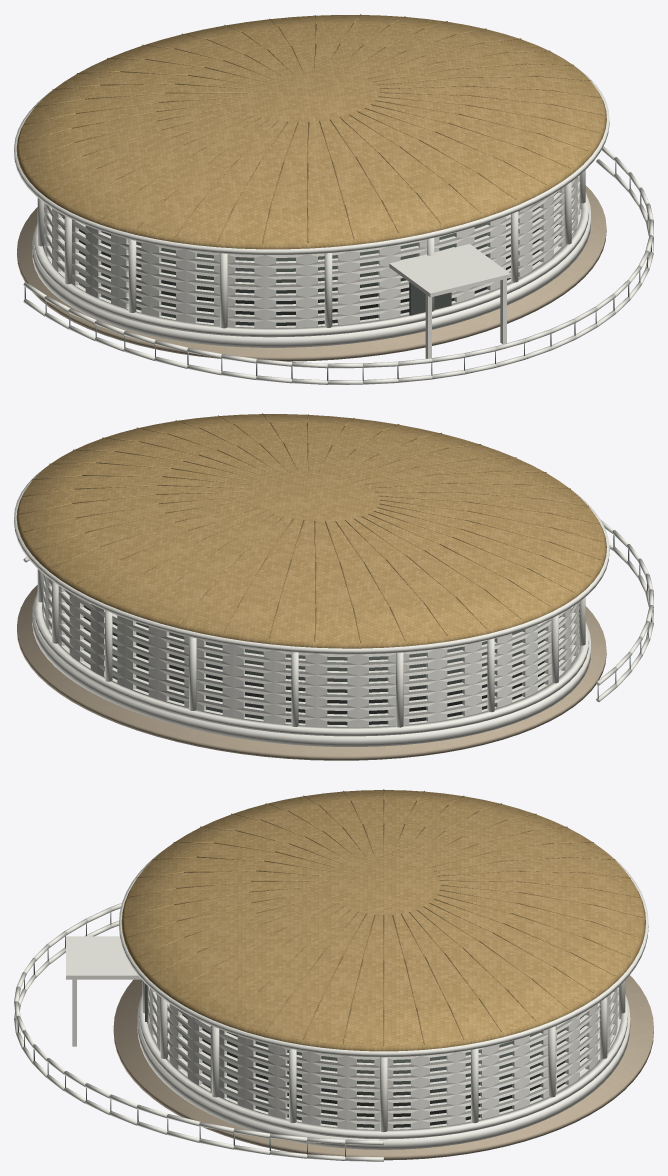
Rendered from long-xuyen-round-annex.glb.
3 views of the same model, one above another, from view 1: azimuth 30°, elevation 25°; view 2: azimuth 150°, elevation 25°; view 3: azimuth 270°, elevation 25° (orthographic).
Visible parts, largest first — view 1: Round_annex_roof, Round_annex_white, Round_annex_paving, Round_annex_dark, Round_annex_metal; view 2: Round_annex_roof, Round_annex_white, Round_annex_paving, Round_annex_dark; view 3: Round_annex_roof, Round_annex_white, Round_annex_paving, Round_annex_dark.
Boxes of the visible parts, box(x1,y1,x2,y2) form: Round_annex_roof: box(16, 14, 606, 249); Round_annex_white: box(14, 68, 653, 384); Round_annex_paving: box(17, 185, 606, 361); Round_annex_dark: box(62, 192, 557, 325); Round_annex_metal: box(24, 162, 651, 381); Round_annex_roof: box(16, 413, 606, 648); Round_annex_white: box(14, 467, 653, 746); Round_annex_paving: box(17, 585, 606, 760); Round_annex_dark: box(65, 591, 561, 725); Round_annex_roof: box(121, 789, 645, 1051); Round_annex_white: box(14, 851, 648, 1161); Round_annex_paving: box(113, 975, 653, 1160); Round_annex_dark: box(145, 983, 585, 1127).
Size of the model in its own units: 30.82 by 7.65 by 29.61.
5 materials, 2 textured.
